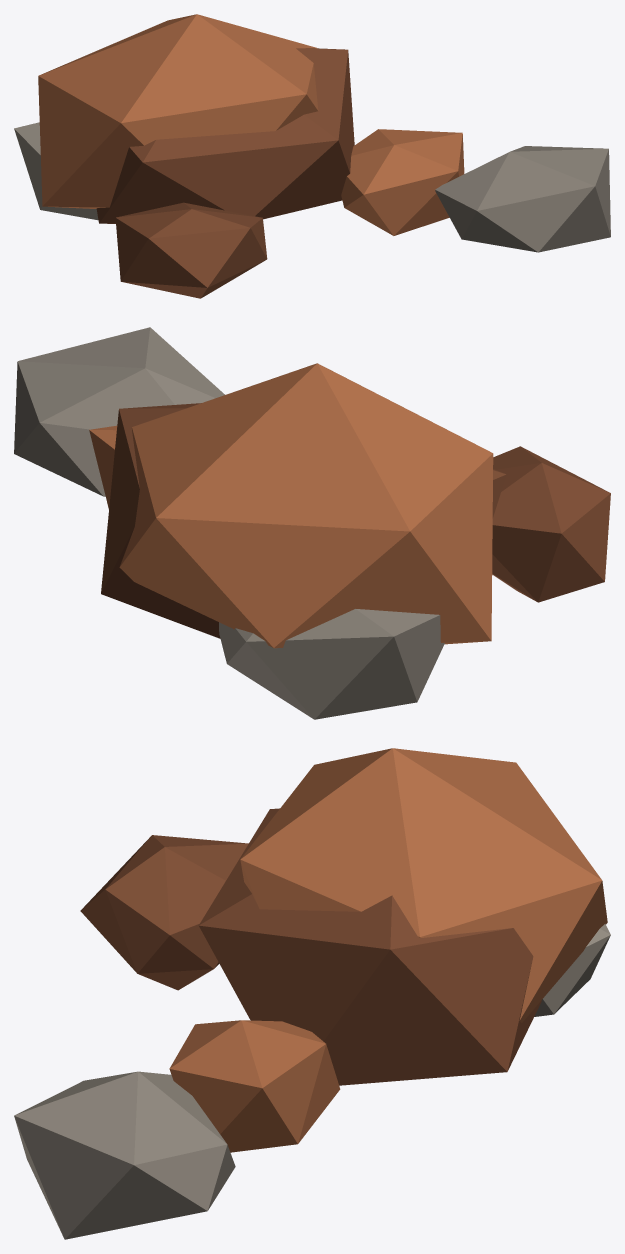
Rendered from SM_Rock_Group.obj.
3 views of the same model, one above another, from view 1: azimuth 30°, elevation 25°; view 2: azimuth 150°, elevation 25°; view 3: azimuth 270°, elevation 25° (orthographic). The views are drawn at different scales.
Visible parts, largest first — view 1: SM_Rock_Group; view 2: SM_Rock_Group; view 3: SM_Rock_Group.
Boxes of the visible parts, x1,y1,x2,y2 form: SM_Rock_Group: (14,14,610,298); SM_Rock_Group: (14,327,610,719); SM_Rock_Group: (14,748,610,1239).
Size of the model in its own units: 1.35 by 0.5819 by 1.08.
